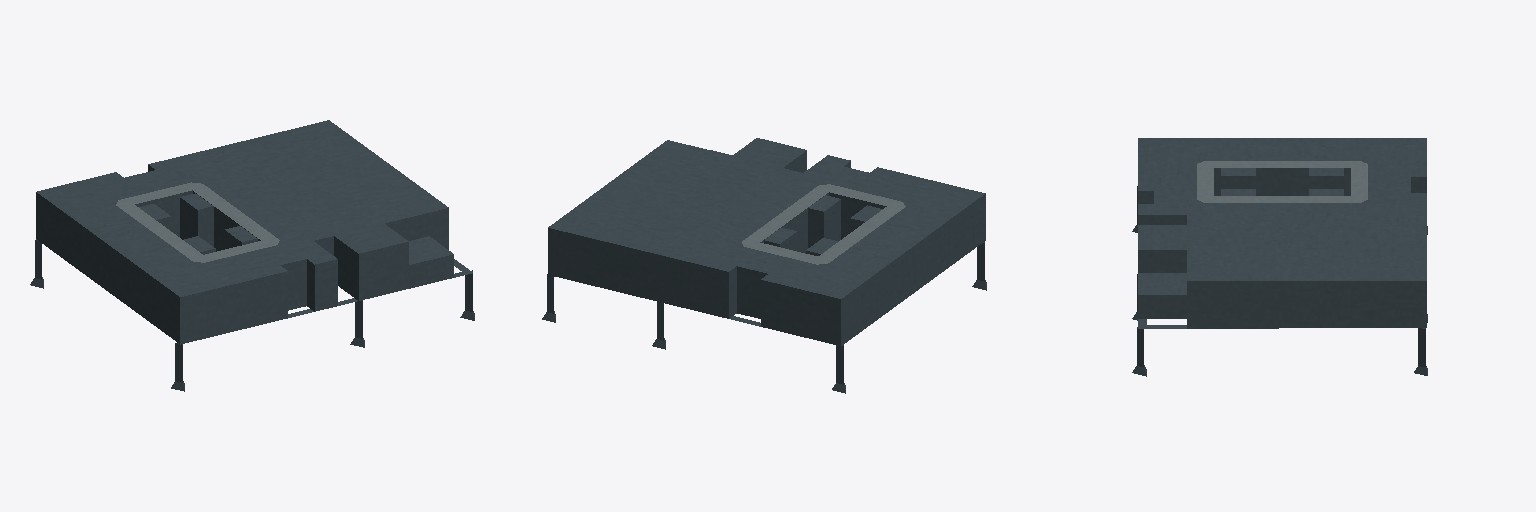
The picture shows the model from 3 angles: view 1: azimuth 30°, elevation 25°; view 2: azimuth 150°, elevation 25°; view 3: azimuth 270°, elevation 25°; orthographic projection.
Visible parts, largest first — view 1: MLP_1_LP; view 2: MLP_1_LP; view 3: MLP_1_LP.
Part boxes in pixels (x1,y1,x2,y2): MLP_1_LP: (30,120,474,391); MLP_1_LP: (542,138,986,393); MLP_1_LP: (1132,138,1427,376).
Size of the model in its own units: 101 by 29.41 by 85.26.
1 materials, 1 textured.